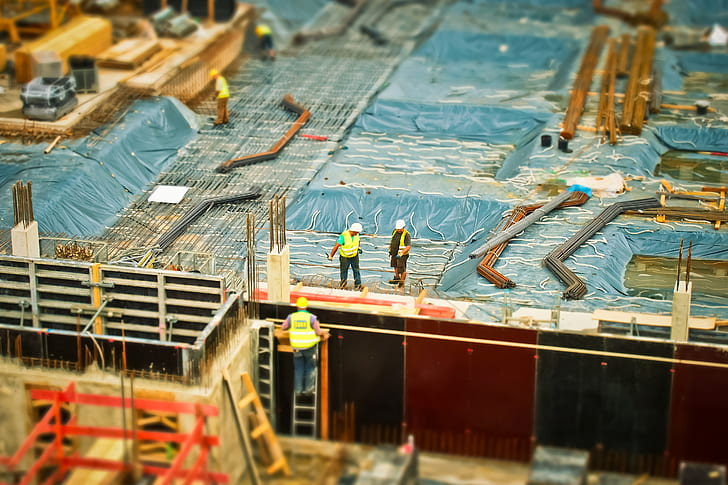Hard Hat: (295, 298, 309, 312), (348, 223, 363, 236), (395, 220, 406, 233), (210, 71, 220, 80)
Person: (282, 298, 328, 398), (331, 223, 363, 289), (389, 220, 408, 287), (210, 71, 232, 126), (254, 25, 278, 63)
Vest: (291, 307, 320, 350), (339, 230, 360, 259), (392, 228, 412, 258), (214, 75, 231, 99), (255, 26, 273, 38)
